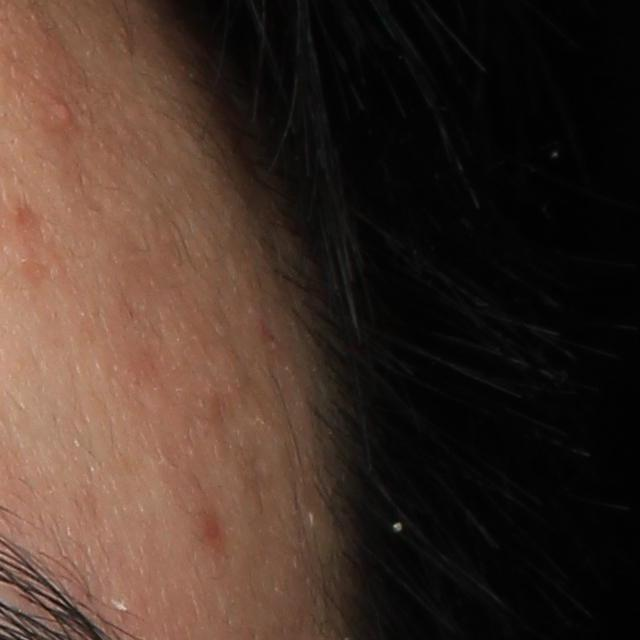papule: (50, 96, 75, 127)
